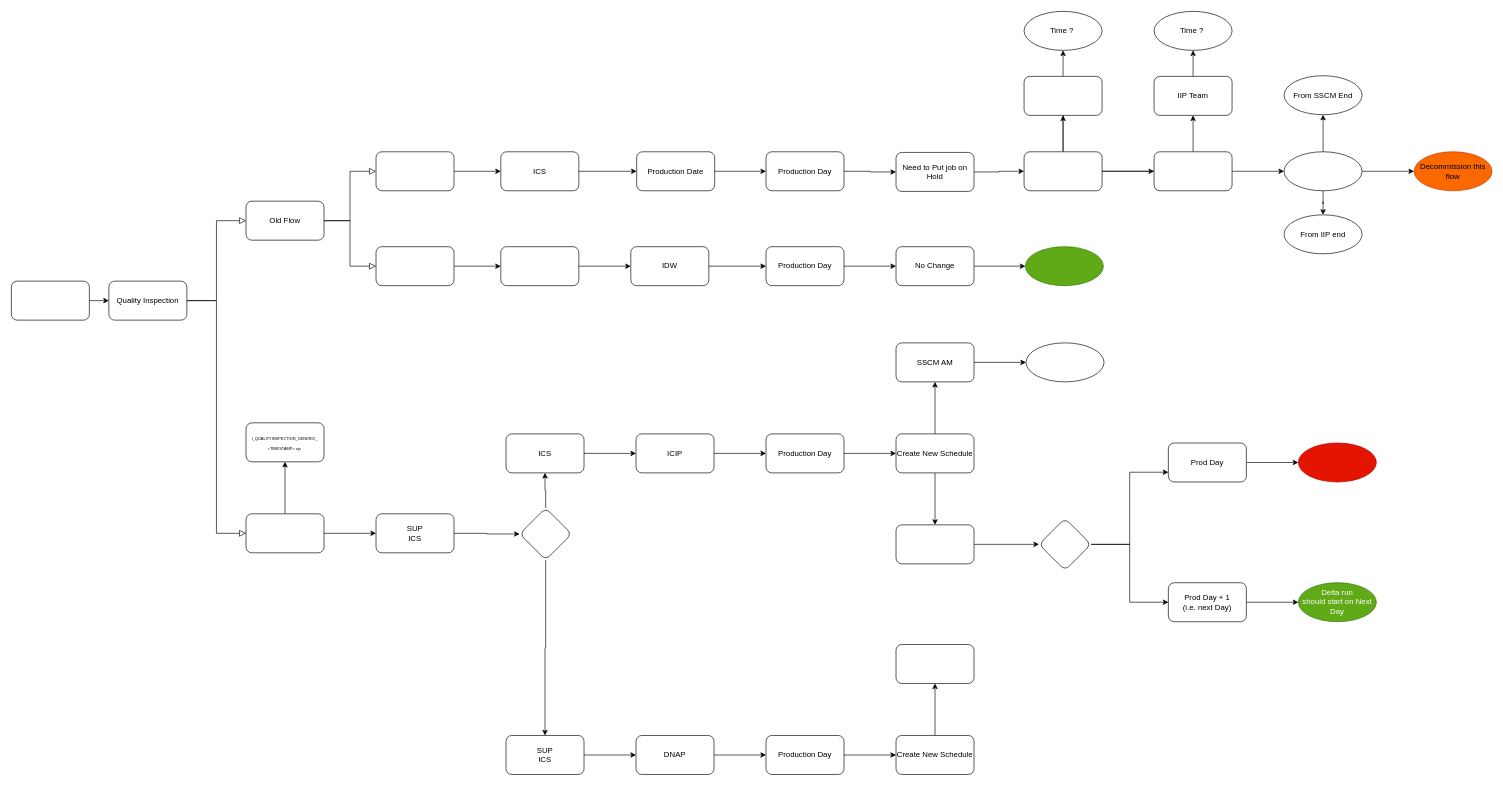
This 1503x786 diagram has some shape labels left out. The shapes that lost their labels are listed below. From the top down, each one's box as (x1, y1, x2, y2) in pixels, then its label:
(1023, 76, 1102, 115): SSCM AM Team
(375, 151, 454, 191): ICS File
(1023, 151, 1102, 191): Run Manually Delta file
(1153, 151, 1232, 191): Load/Sent to ICIP System Manually
(1283, 151, 1362, 191): Stop ICS Flow
(375, 246, 454, 286): IDW File
(500, 246, 579, 286): SUP
(1025, 246, 1103, 286): will continue as it is
(11, 280, 89, 320): SSCM
(1025, 342, 1104, 382): No Run on Prod Day
(1298, 442, 1376, 482): Job Shouldn't Run
(245, 513, 324, 553): New File/Flow
(519, 507, 572, 560): BU Type
(895, 524, 974, 564): IIP Schedule
(1038, 518, 1091, 570): Job Release
